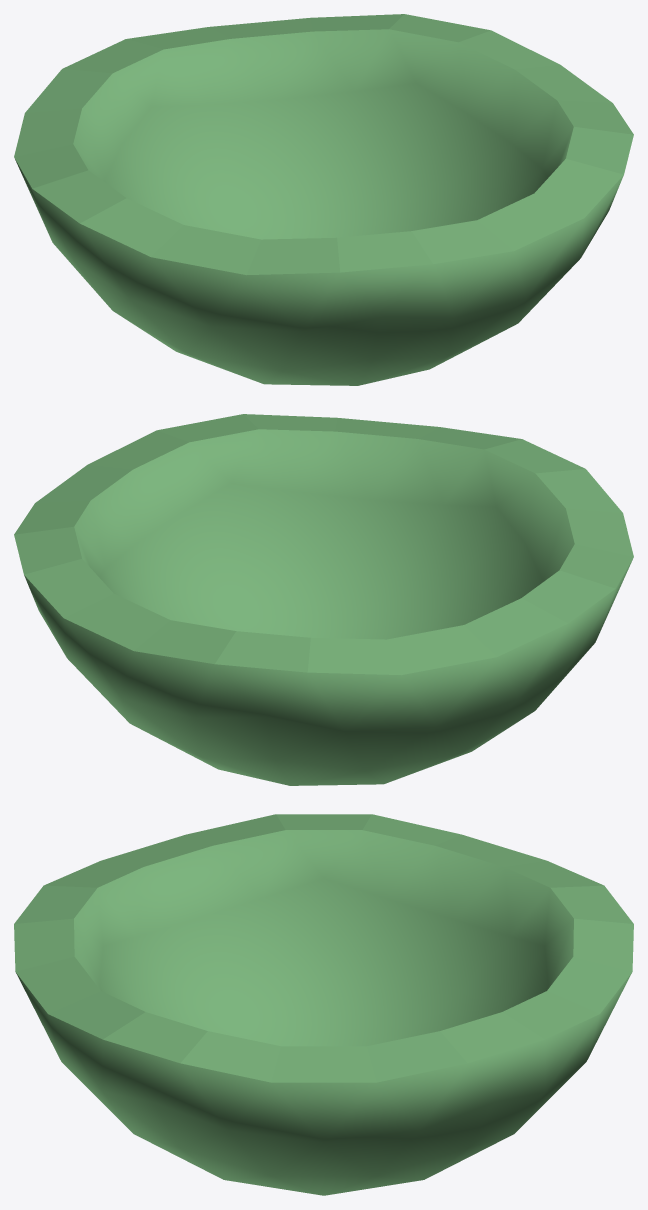
The model's file is StoneBowl.fbx.
3 views of the same model, one above another, from view 1: azimuth 30°, elevation 25°; view 2: azimuth 150°, elevation 25°; view 3: azimuth 270°, elevation 25° (orthographic).
Visible parts, largest first — view 1: Stone Bowl; view 2: Stone Bowl; view 3: Stone Bowl.
Part boxes in pixels (bbox=[...]): Stone Bowl: bbox=[14, 14, 633, 385]; Stone Bowl: bbox=[14, 414, 633, 785]; Stone Bowl: bbox=[14, 814, 633, 1195].
Size of the model in its own units: 48.59 by 19.93 by 48.76.
